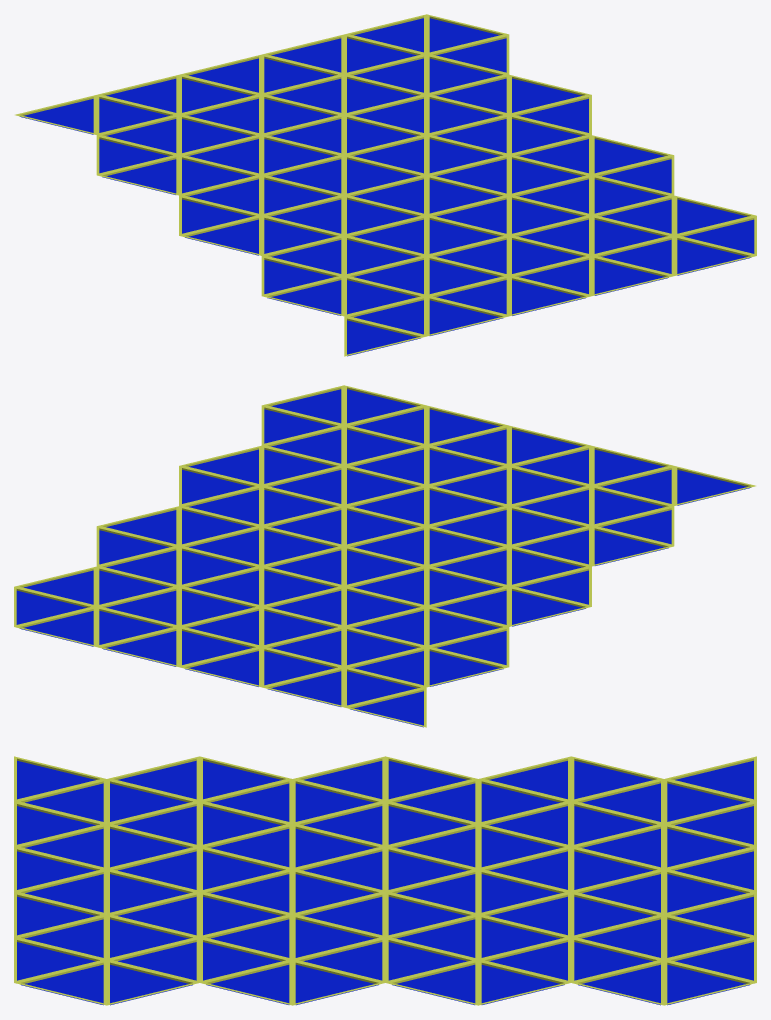
3 views of the same model, one above another, from view 1: azimuth 30°, elevation 25°; view 2: azimuth 150°, elevation 25°; view 3: azimuth 270°, elevation 25° (orthographic). The views are drawn at different scales.
Parts seen in each view (by area): view 1: Circle; view 2: Circle; view 3: Circle.
Part boxes in pixels (x1,y1,x2,y2): Circle: (15, 14, 756, 356); Circle: (14, 385, 755, 727); Circle: (14, 756, 756, 1005).
Size of the model in its own units: 5.5 by 0.021 by 6.93.
